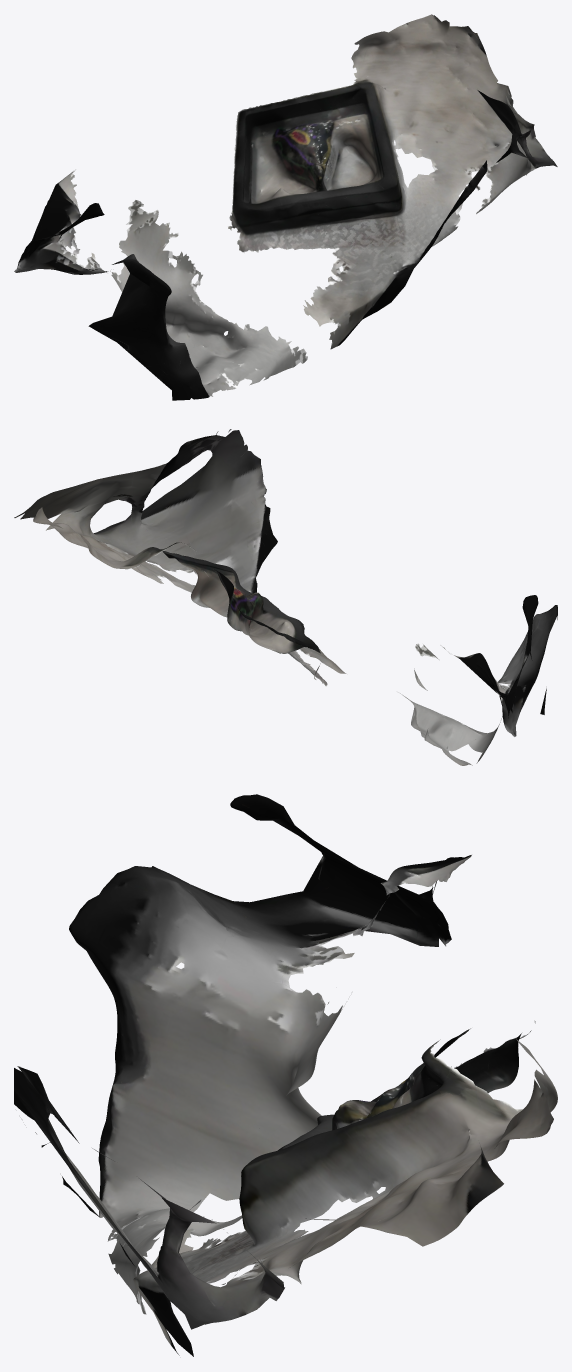
3 views of the same model, one above another, from view 1: azimuth 30°, elevation 25°; view 2: azimuth 150°, elevation 25°; view 3: azimuth 270°, elevation 25° (orthographic). The views are drawn at different scales.
Size of the model in its own units: 0.885 by 0.3792 by 0.4495.
Materials: 1 (1 with a texture image).
